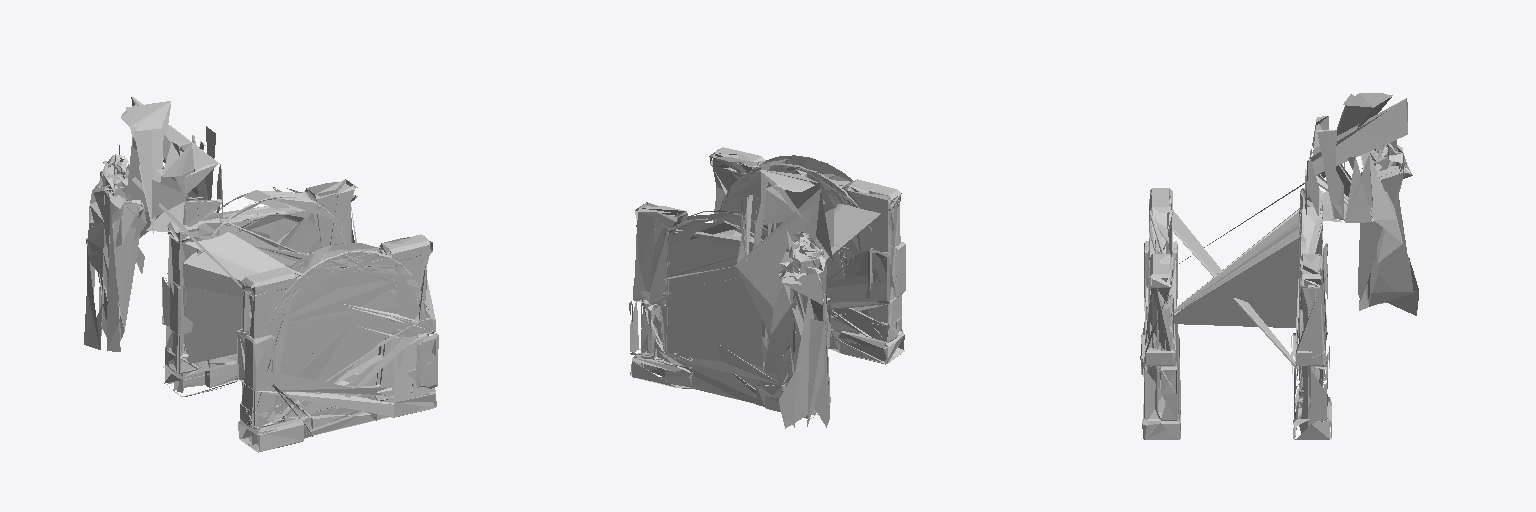
Rendered from cellDesert_EndSteps_Proxy-sharedassets3.assets-563.obj.
The picture shows the model from 3 angles: view 1: azimuth 30°, elevation 25°; view 2: azimuth 150°, elevation 25°; view 3: azimuth 270°, elevation 25°; orthographic projection.
Visible parts, largest first — view 1: cellDesert_EndSteps_Proxy_0, cellDesert_EndSteps_Proxy_1, cellDesert_EndSteps_Proxy_2, cellDesert_EndSteps_Proxy_3; view 2: cellDesert_EndSteps_Proxy_0, cellDesert_EndSteps_Proxy_2, cellDesert_EndSteps_Proxy_1, cellDesert_EndSteps_Proxy_3; view 3: cellDesert_EndSteps_Proxy_0, cellDesert_EndSteps_Proxy_2, cellDesert_EndSteps_Proxy_3, cellDesert_EndSteps_Proxy_1.
Boxes of the visible parts, x1=… form: cellDesert_EndSteps_Proxy_0: x1=84, y1=96, x2=437, y2=452; cellDesert_EndSteps_Proxy_1: x1=242, y1=235, x2=435, y2=427; cellDesert_EndSteps_Proxy_2: x1=103, y1=154, x2=438, y2=451; cellDesert_EndSteps_Proxy_3: x1=237, y1=235, x2=438, y2=451; cellDesert_EndSteps_Proxy_0: x1=633, y1=147, x2=905, y2=428; cellDesert_EndSteps_Proxy_2: x1=629, y1=149, x2=905, y2=418; cellDesert_EndSteps_Proxy_1: x1=713, y1=147, x2=901, y2=342; cellDesert_EndSteps_Proxy_3: x1=632, y1=150, x2=904, y2=388; cellDesert_EndSteps_Proxy_0: x1=1141, y1=93, x2=1418, y2=438; cellDesert_EndSteps_Proxy_2: x1=1140, y1=172, x2=1331, y2=439; cellDesert_EndSteps_Proxy_3: x1=1140, y1=189, x2=1331, y2=439; cellDesert_EndSteps_Proxy_1: x1=1145, y1=188, x2=1180, y2=415.
Size of the model in its own units: 101 by 109 by 106.